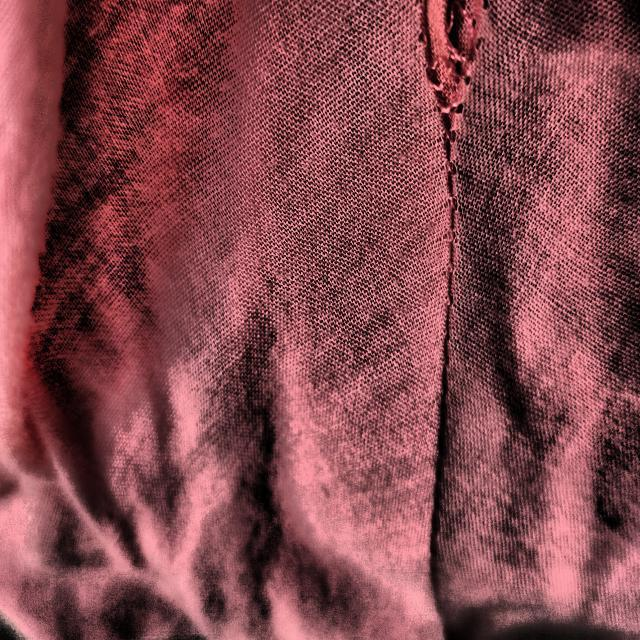gray stitch: (414, 0, 493, 231)
